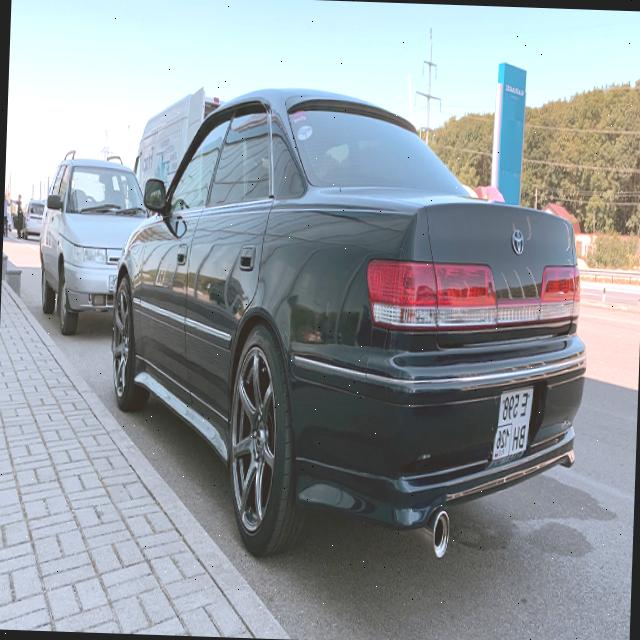number-plates: (488, 379, 534, 474)
